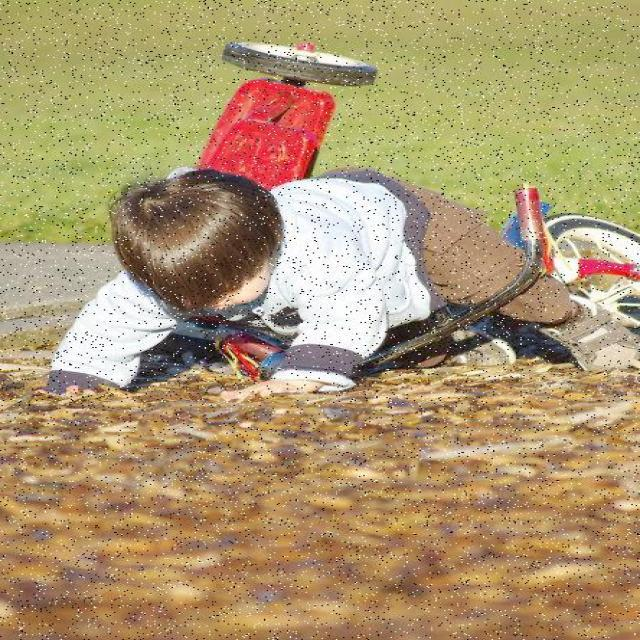fall: (62, 179, 584, 397)
